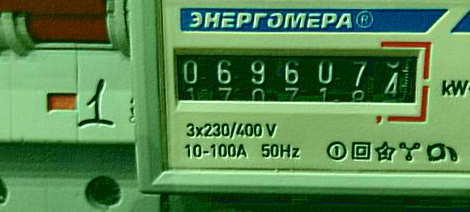0: (180, 57, 202, 86), (317, 56, 336, 85), (216, 58, 234, 84)
4: (383, 70, 400, 98)
6: (282, 56, 301, 86)
7: (350, 58, 369, 87)
9: (249, 57, 268, 86)
screen: (159, 34, 434, 122)
